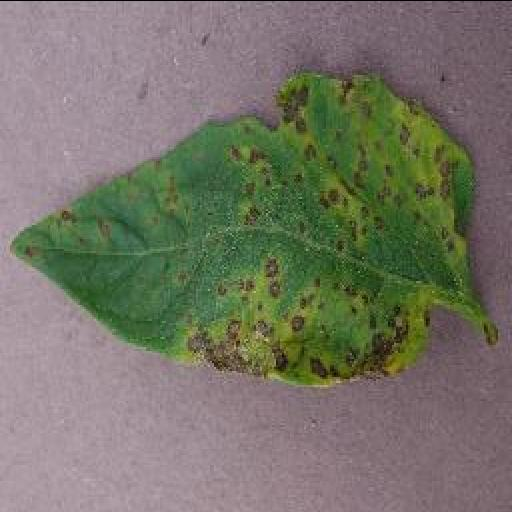disease_tomato: (10, 72, 474, 380)
